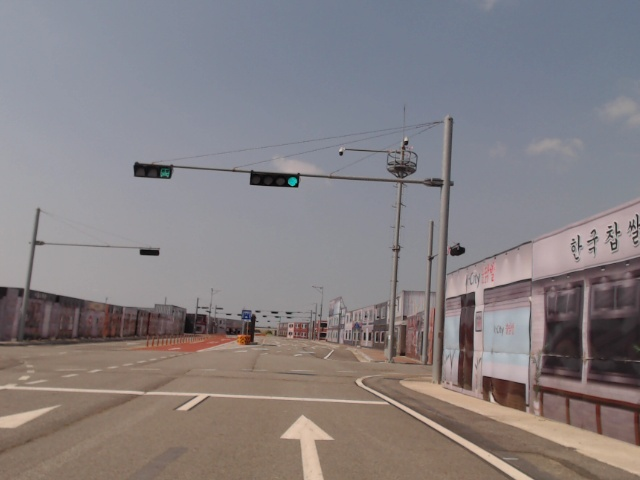straight_green_4: (250, 172, 300, 189)
